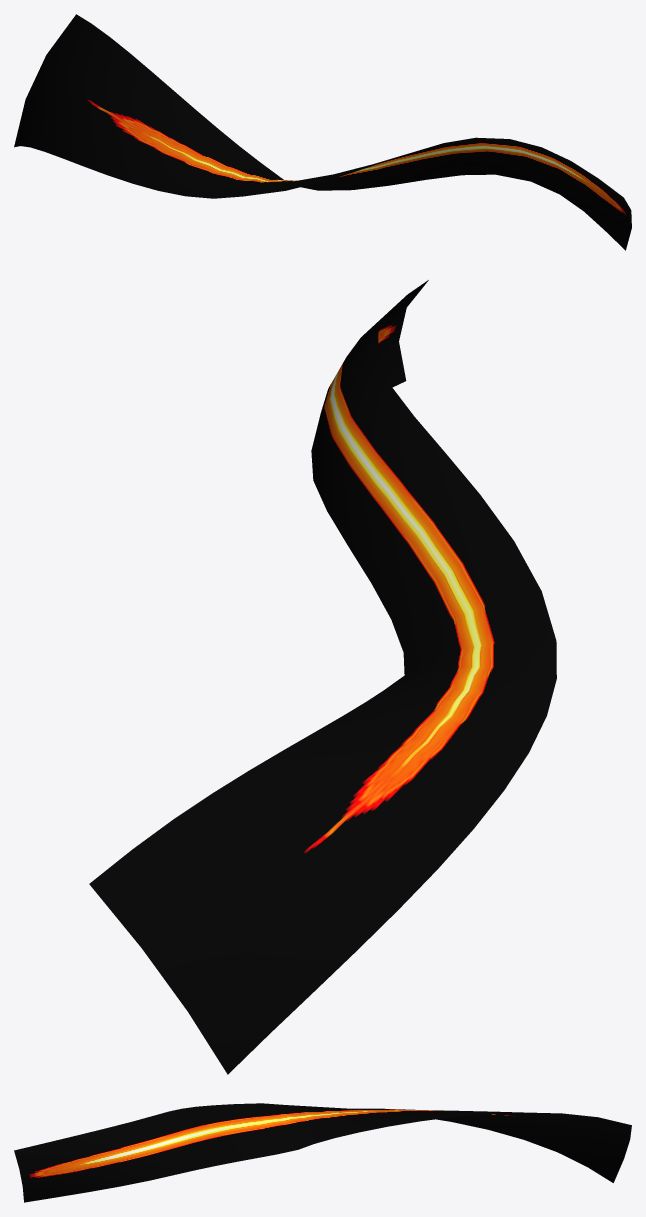
Rendered from trail_120.FBX.
The picture shows the model from 3 angles, top to bottom: view 1: azimuth 30°, elevation 25°; view 2: azimuth 150°, elevation 25°; view 3: azimuth 270°, elevation 25°; orthographic projection. The views are drawn at different scales.
Visible parts, largest first — view 1: trail_120; view 2: trail_120; view 3: trail_120.
Boxes of the visible parts, bbox=[...] form: trail_120: bbox=[14, 14, 631, 250]; trail_120: bbox=[89, 280, 556, 1074]; trail_120: bbox=[14, 1103, 631, 1202].
Bounding box in the file's own units: 101 × 58.53 × 230.
